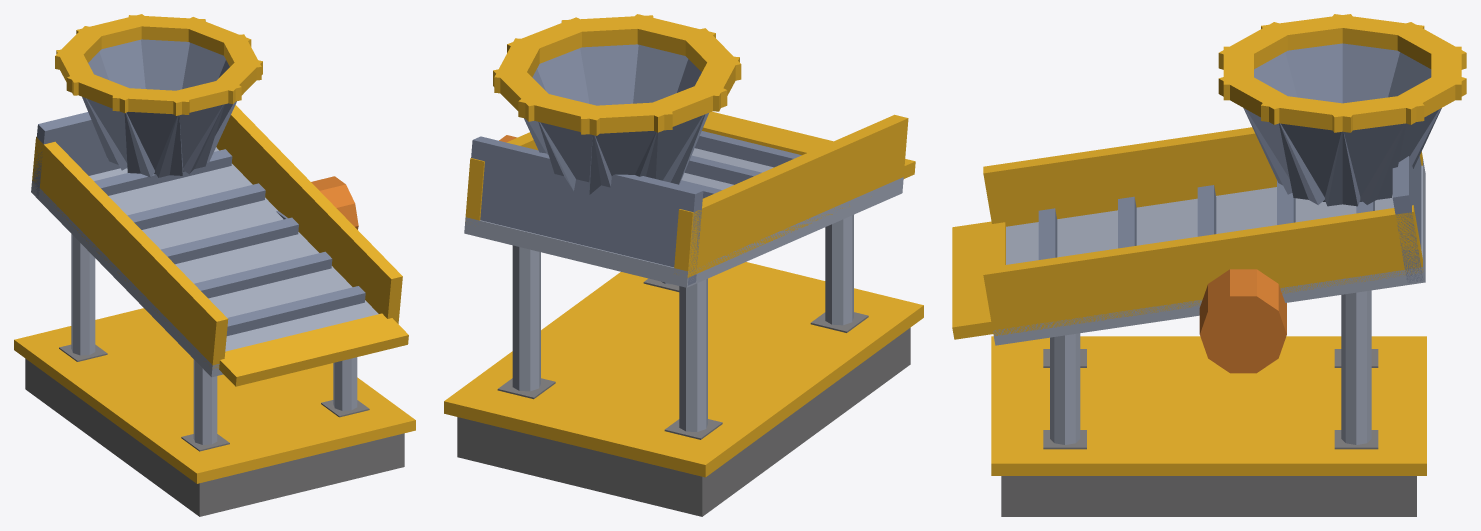
File: feeder_vibe.glb
3 renders of one model, left to right at view 1: azimuth 30°, elevation 25°; view 2: azimuth 150°, elevation 25°; view 3: azimuth 270°, elevation 25°, orthographic. The views are drawn at different scales.
Visible parts, largest first — view 1: feeder_vibe; view 2: feeder_vibe; view 3: feeder_vibe.
Boxes of the visible parts, <box> form: feeder_vibe: <box>14,14,415,516</box>; feeder_vibe: <box>444,14,923,516</box>; feeder_vibe: <box>952,14,1466,516</box>.
Bounding box in the file's own units: 1 × 1.26 × 1.5.
